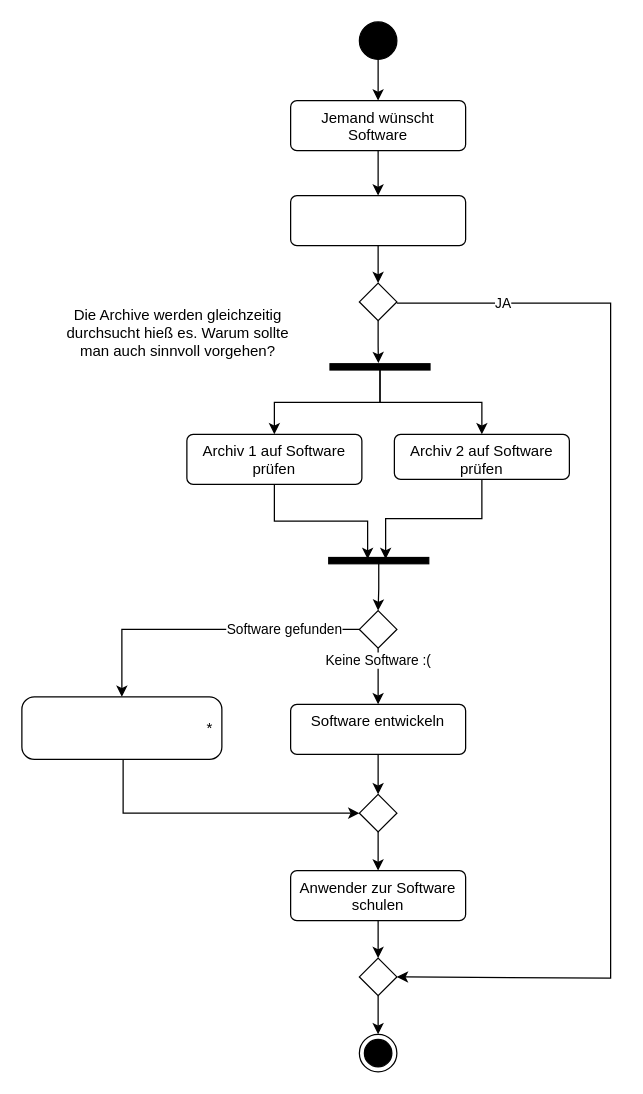
This 643x1094 diagram has some shape labels left out. Here are the shapes that lost their labels. From the top down, the box of each, then its label:
(289, 194, 466, 246): Prüfen ob Software auf PC installiert
(21, 696, 222, 759): Software herunterladen und installieren
